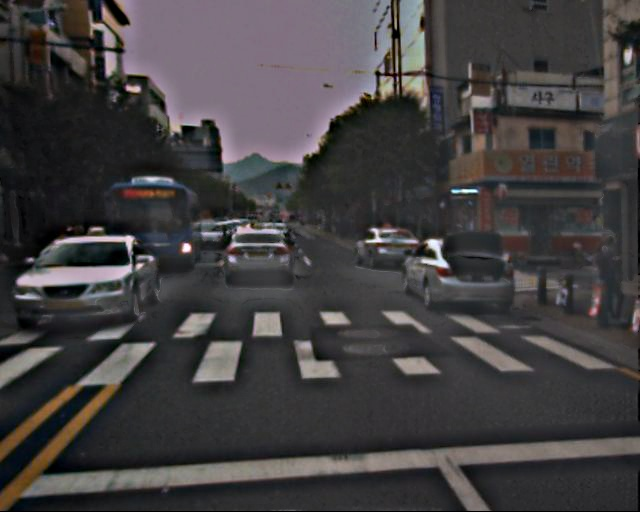person: (585, 237, 626, 328), (525, 219, 545, 260)
